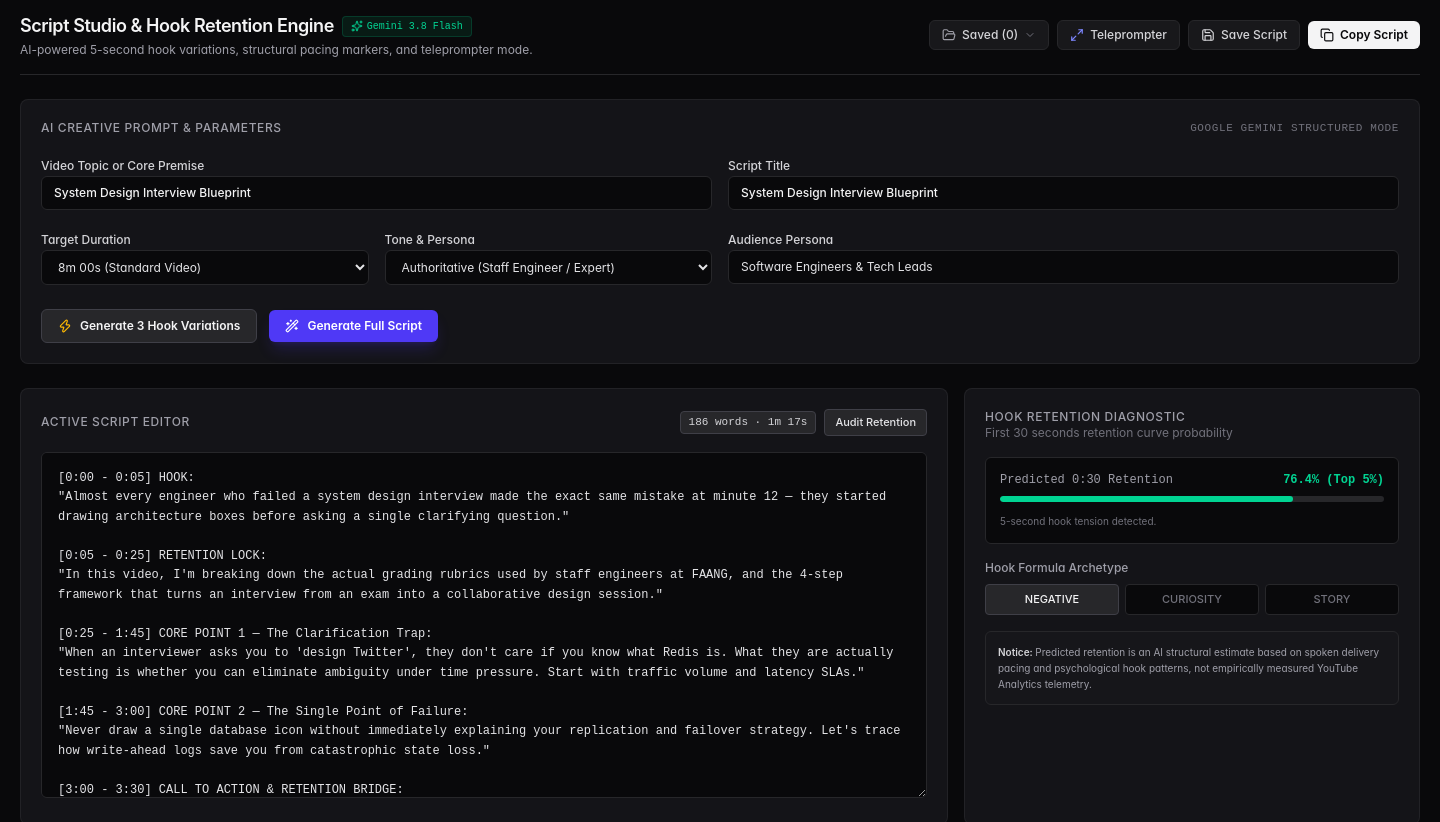
it: ScriptStudioPage Component Tests › handles generation API errors gracefully with an error banner
Click the button "Generate 3 Hook Variations": (149, 326) [41,309,257,343]
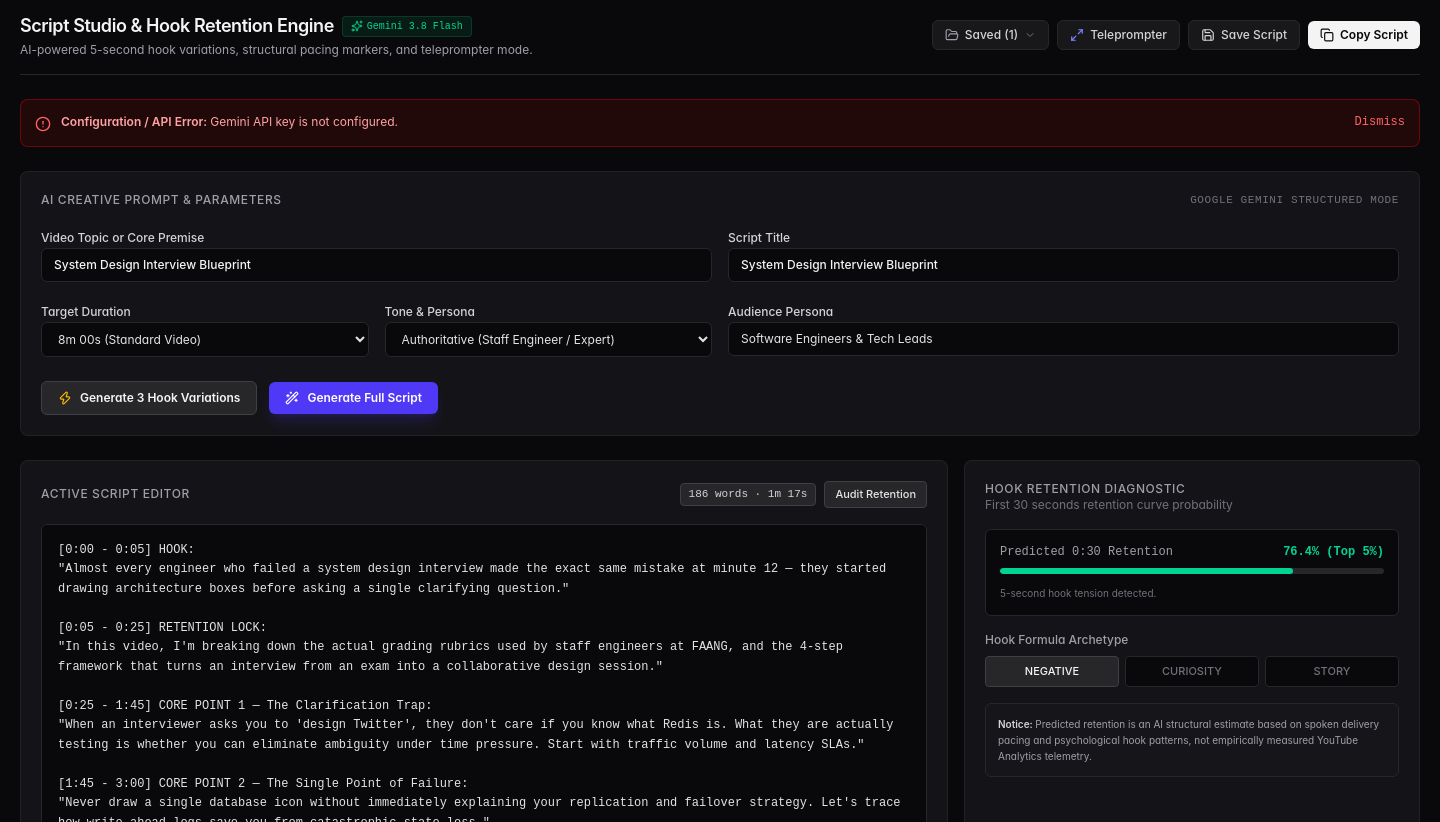
Result: the text "Configuration / API Error: Gemini API key is not configured." is shown at [61,114,398,129]
